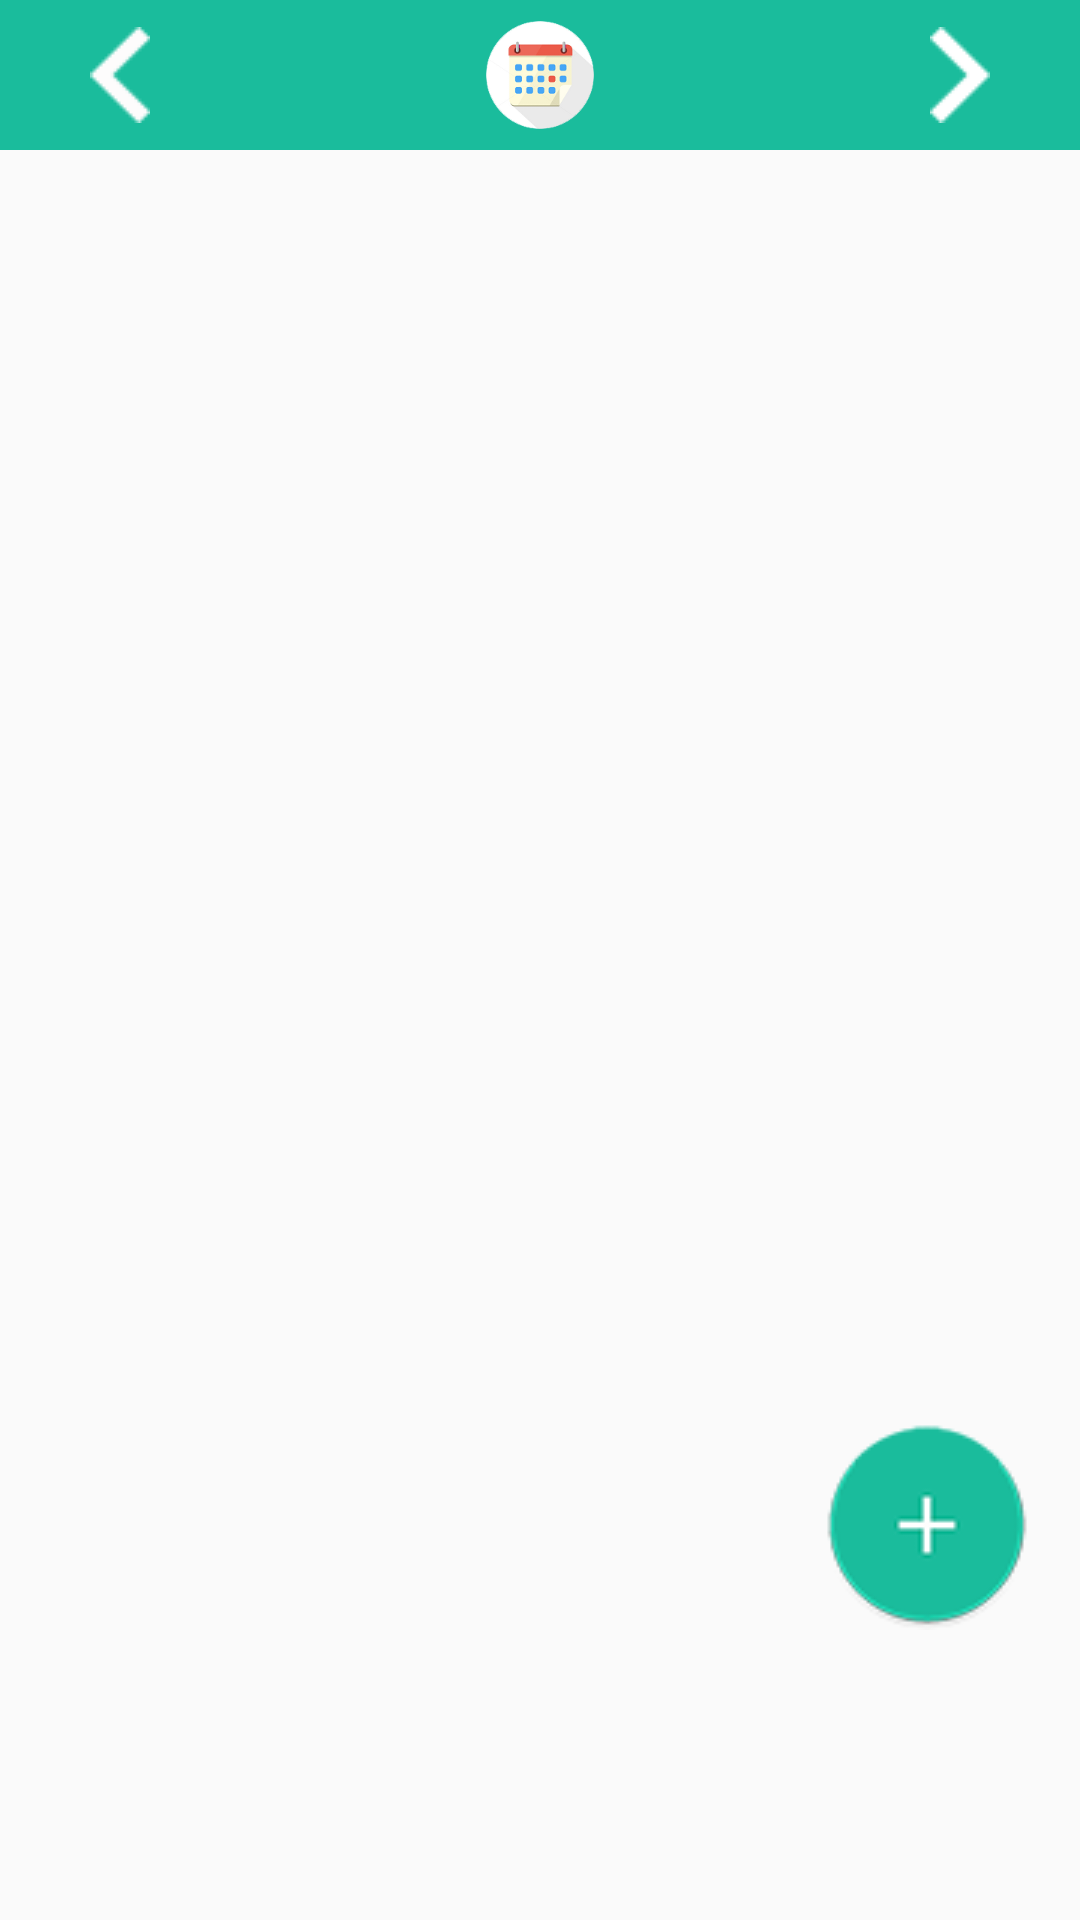

Where to tap for icons on this 1080x1920 app screen, as point (x, y):
calendar: point (540, 75)
next: point (960, 75)
pre: point (120, 75)
